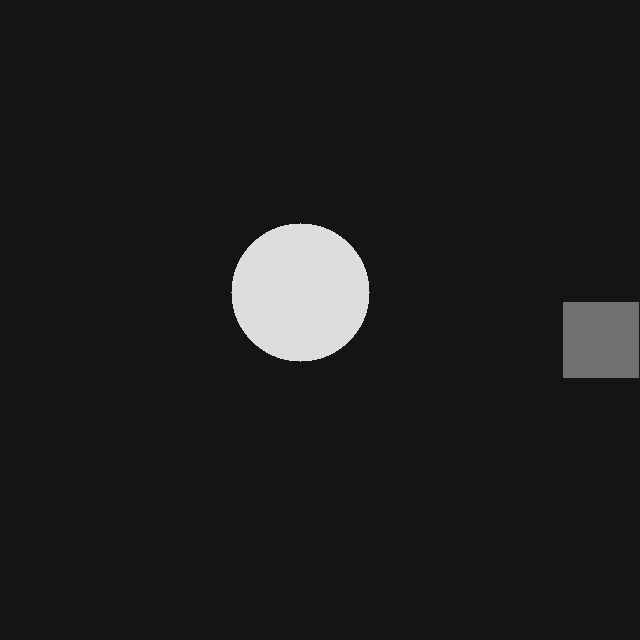circle: (231, 223, 369, 361)
square: (563, 302, 638, 377)
